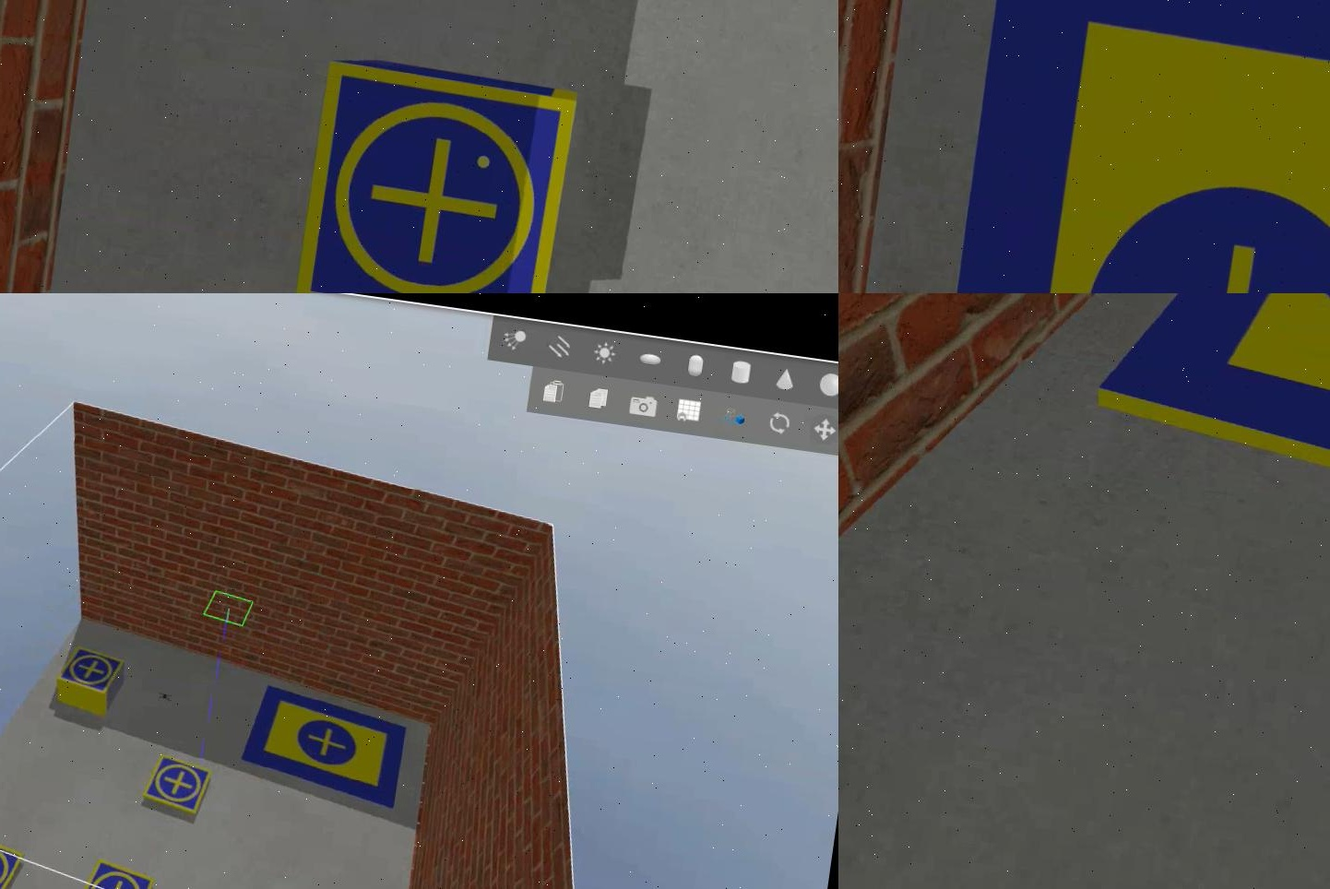large_base: (933, 1, 1328, 293), (1078, 293, 1328, 573), (235, 682, 406, 809)
small_base: (297, 64, 576, 293), (137, 753, 212, 823), (50, 646, 124, 698), (68, 858, 153, 889)
